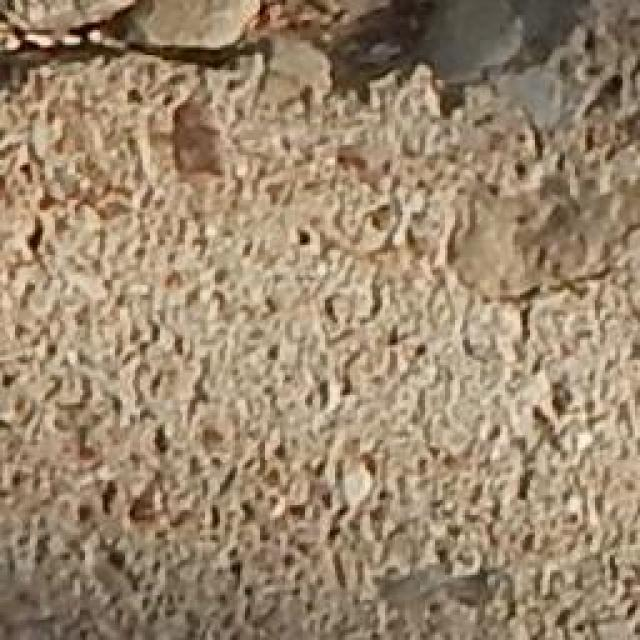concrete-crack: (1, 0, 640, 153)
